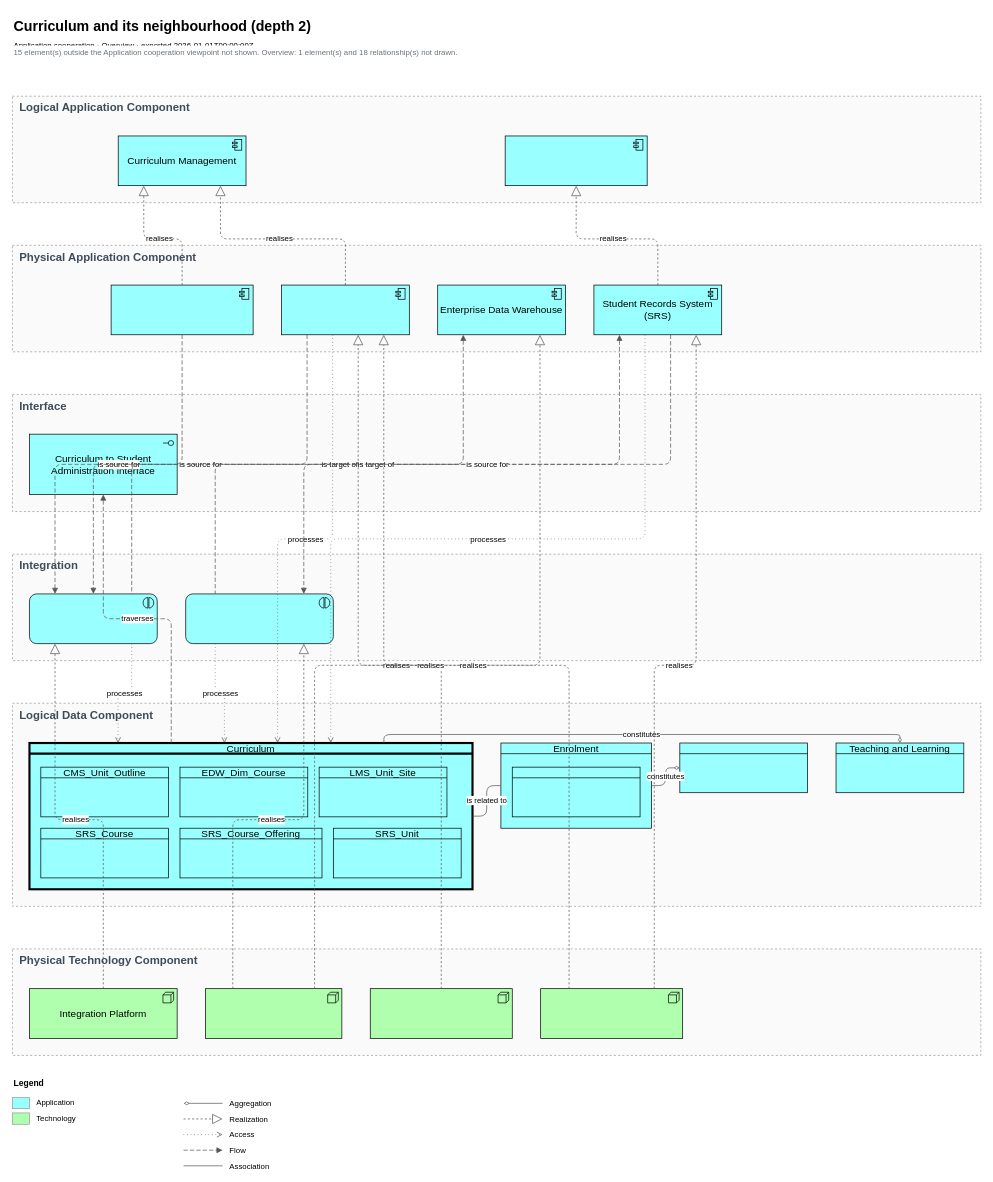
Some shapes in this 993 by 1182 pixel diagram are drawn without their labels. Here are the shapes that lost their labels. From the top down, the centre of each, then its label:
At point (575, 160): "Student Information System".
At point (181, 309): "Curriculum Approval Workflow".
At point (345, 309): "Curriculum Management System".
At point (93, 618): "CMS to SRS curriculum sync".
At point (259, 618): "SRS to EDW ingestion".
At point (743, 767): "Student".
At point (576, 791): "SRS_Enrolment".
At point (273, 1013): "Lakehouse Platform".
At point (441, 1013): "Legacy Forms Server".
At point (611, 1013): "Relational Database Platform".
